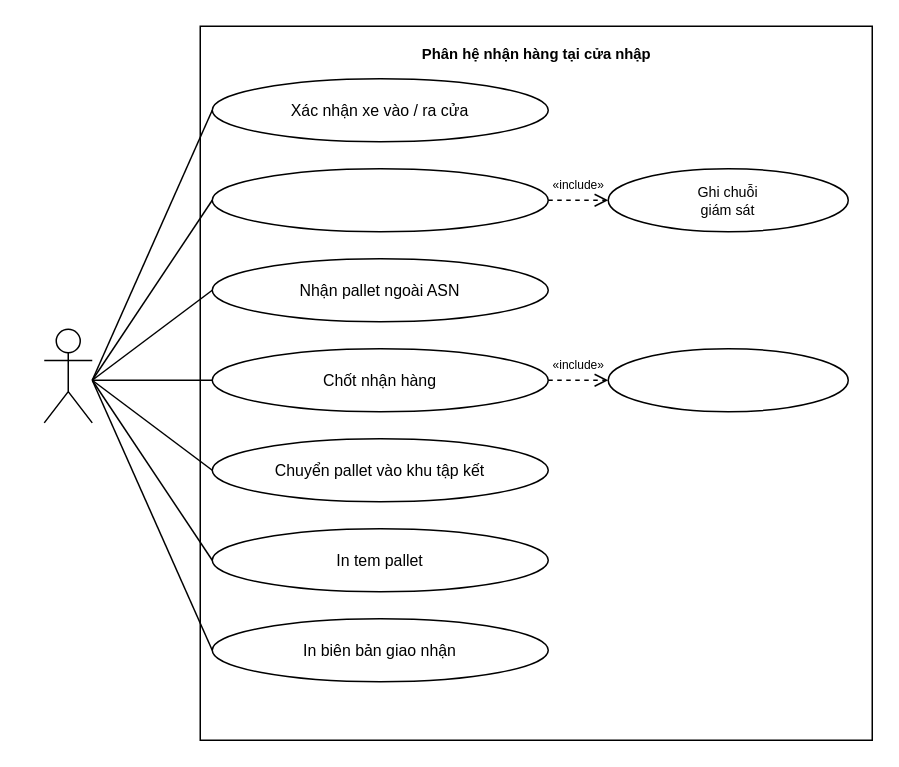
This 899x767 diagram has some shape labels left out. The box of each missing label's shape, as (x1, y1, x2, y2) in pixels:
Nhận pallet theo ASN: (211, 167, 548, 232)
NV Inbound: (43, 328, 92, 423)
Tự ghi nhận ngoại lệ: (607, 347, 848, 412)
